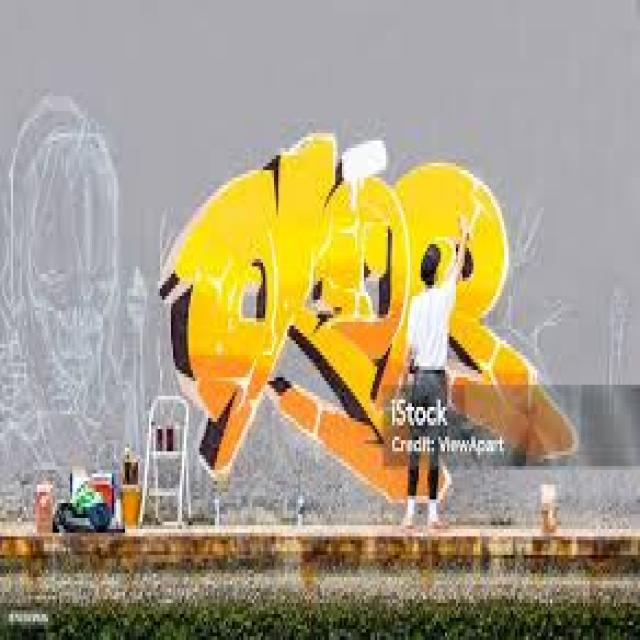-: (157, 131, 581, 499)
